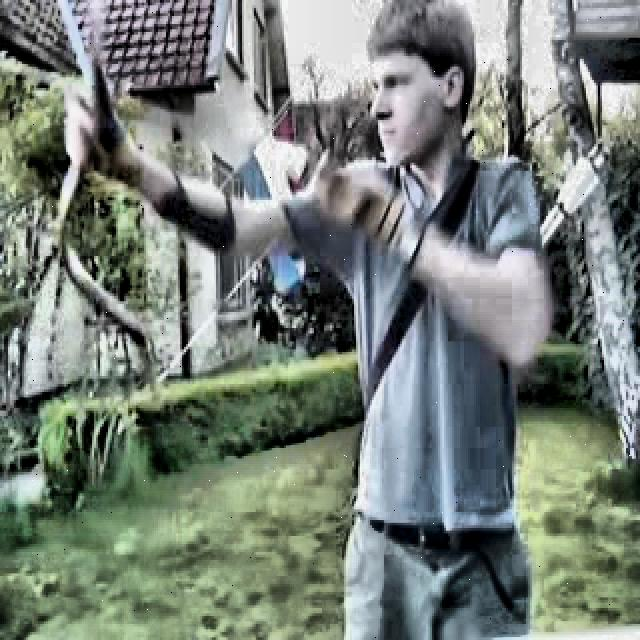P: (56, 3, 555, 640)
